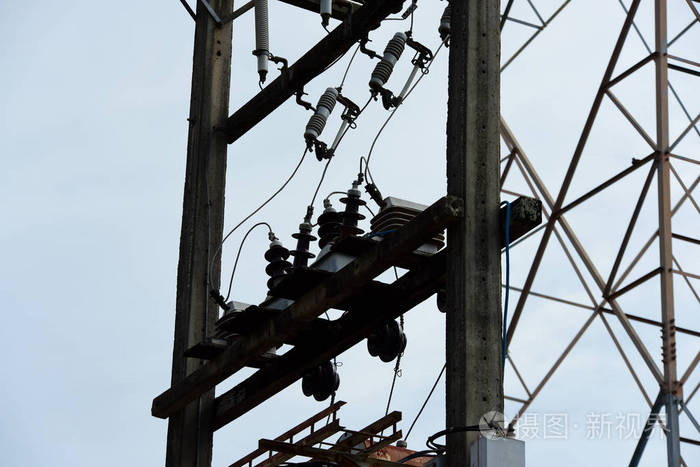insulator: (336, 195, 367, 243), (292, 231, 319, 270), (264, 246, 286, 287)
